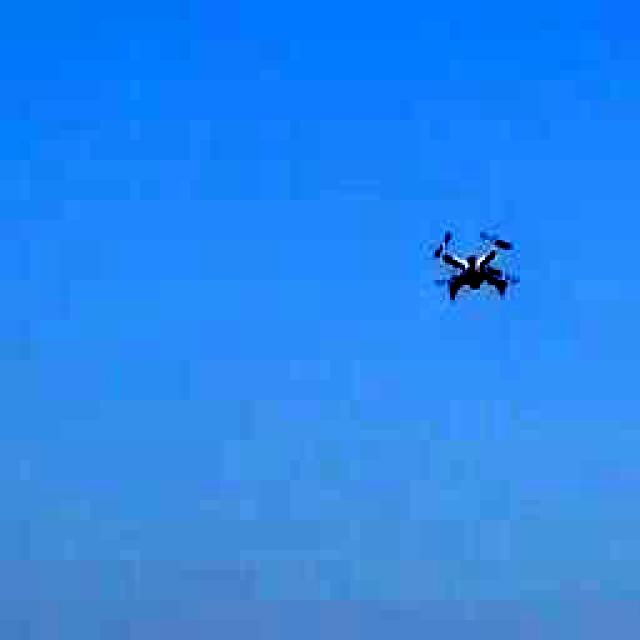bird: (409, 196, 529, 326)
